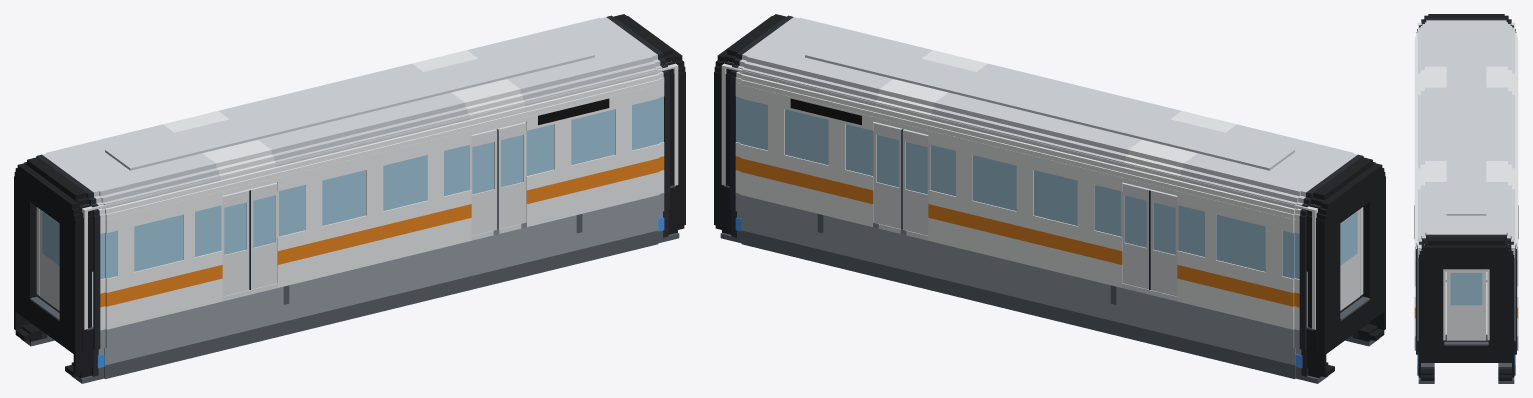
File: linimo_car.obj
The picture shows the model from 3 angles, left to right: view 1: azimuth 30°, elevation 25°; view 2: azimuth 150°, elevation 25°; view 3: azimuth 270°, elevation 25°; orthographic projection. The views are drawn at different scales.
Parts seen in each view (by area): view 1: SHELL, SHELL_roof, SHELL_diaphragm, EXTERNAL_DOOR_4_CG_DR1_TOGGLE_TL_-0.59_X, EXTERNAL_DOOR_11_CG_DR2_TOGGLE_TL_0.59_X, EXTERNAL_DOOR_10_CG_DR2_TOGGLE_TL_-0.59_X, EXTERNAL_DOOR_5_CG_DR1_TOGGLE_TL_0.59_X, SHELL_ceiling, CONNECTING_DOOR_1_CG_CR_TOGGLE_TL_0.98_Z, SHELL_end, SHELL_sign; view 2: SHELL, SHELL_roof, SHELL_diaphragm, EXTERNAL_DOOR_7_CG_DL1_TOGGLE_TL_-0.59_X, EXTERNAL_DOOR_14_CG_DL2_TOGGLE_TL_0.59_X, EXTERNAL_DOOR_13_CG_DL2_TOGGLE_TL_-0.59_X, EXTERNAL_DOOR_8_CG_DL1_TOGGLE_TL_0.59_X, SHELL_ceiling, CONNECTING_DOOR_1_CG_CR_TOGGLE_TL_0.98_Z, SHELL_end, SHELL_sign; view 3: SHELL, SHELL_diaphragm, SHELL_roof, CONNECTING_DOOR_2_CG_CF_TOGGLE_TL_0.98_Z, SHELL_ceiling, SHELL_end, SHELL_gangway.
Boxes of the visible parts, box(x1,y1,x2,y2) form: SHELL: box(21, 14, 679, 383); SHELL_roof: box(105, 36, 594, 170); SHELL_diaphragm: box(14, 16, 685, 377); EXTERNAL_DOOR_4_CG_DR1_TOGGLE_TL_-0.59_X: box(221, 189, 250, 296); EXTERNAL_DOOR_11_CG_DR2_TOGGLE_TL_0.59_X: box(497, 122, 526, 228); EXTERNAL_DOOR_10_CG_DR2_TOGGLE_TL_-0.59_X: box(469, 129, 498, 235); EXTERNAL_DOOR_5_CG_DR1_TOGGLE_TL_0.59_X: box(249, 182, 278, 289); SHELL_ceiling: box(84, 62, 674, 211); CONNECTING_DOOR_1_CG_CR_TOGGLE_TL_0.98_Z: box(40, 209, 59, 310); SHELL_end: box(36, 61, 678, 329); SHELL_sign: box(538, 98, 609, 125); SHELL: box(720, 14, 1378, 383); SHELL_roof: box(805, 36, 1294, 170); SHELL_diaphragm: box(714, 16, 1385, 377); EXTERNAL_DOOR_7_CG_DL1_TOGGLE_TL_-0.59_X: box(1149, 189, 1178, 296); EXTERNAL_DOOR_14_CG_DL2_TOGGLE_TL_0.59_X: box(873, 122, 902, 228); EXTERNAL_DOOR_13_CG_DL2_TOGGLE_TL_-0.59_X: box(901, 129, 930, 235); EXTERNAL_DOOR_8_CG_DL1_TOGGLE_TL_0.59_X: box(1121, 182, 1150, 289); SHELL_ceiling: box(724, 62, 1315, 211); CONNECTING_DOOR_1_CG_CR_TOGGLE_TL_0.98_Z: box(1340, 209, 1359, 310); SHELL_end: box(721, 61, 1363, 329); SHELL_sign: box(790, 98, 861, 125); SHELL: box(1414, 14, 1518, 383); SHELL_diaphragm: box(1418, 15, 1514, 380); SHELL_roof: box(1446, 37, 1486, 215); CONNECTING_DOOR_2_CG_CF_TOGGLE_TL_0.98_Z: box(1446, 269, 1486, 340); SHELL_ceiling: box(1417, 23, 1515, 246); SHELL_end: box(1417, 22, 1515, 340); SHELL_gangway: box(1444, 341, 1488, 345).
Size of the model in its own units: 13.82 by 4.02 by 2.62.
Materials: 1 (1 with a texture image).
